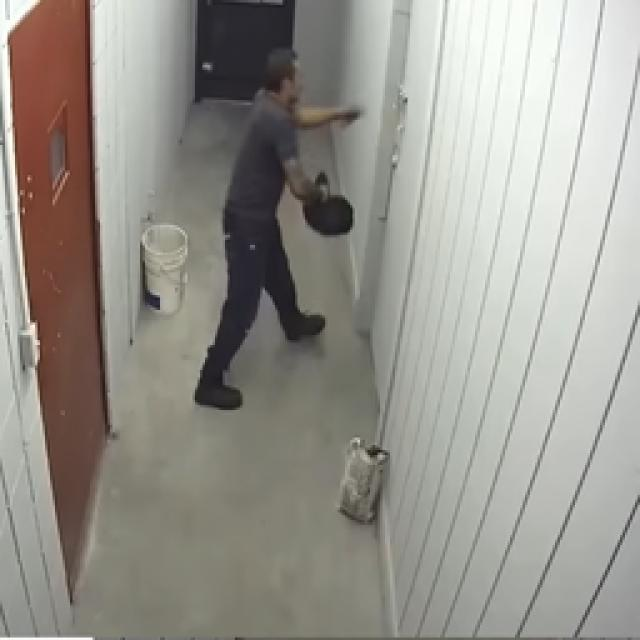person: (195, 48, 355, 408)
